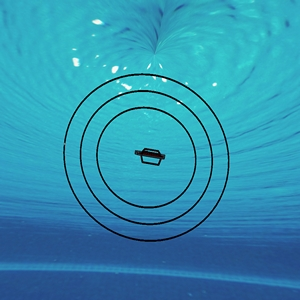submarine: (133, 145, 163, 166)
